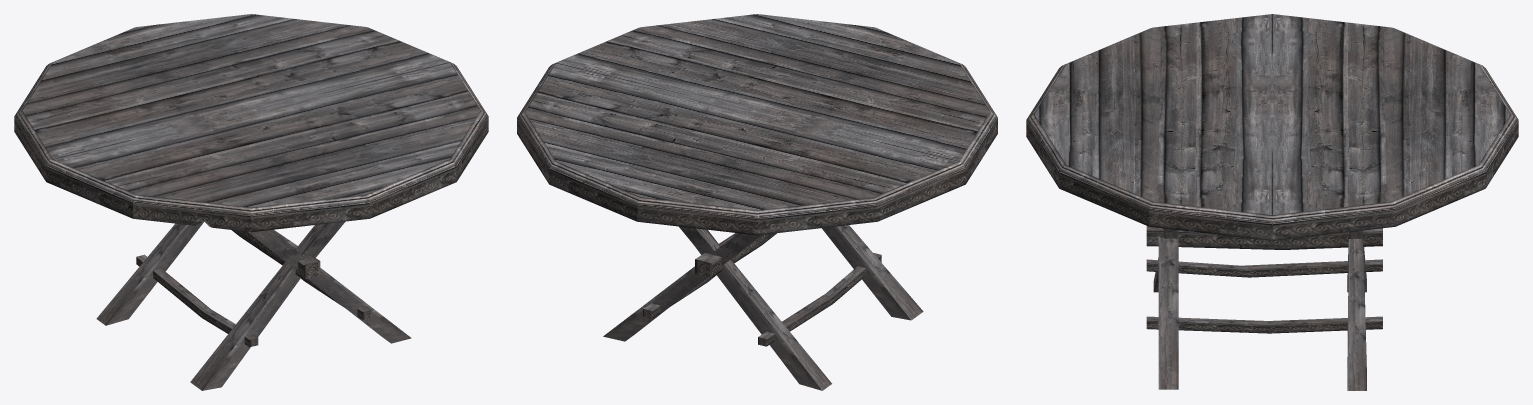
File: tavern_table.dae
3 views of the same model, side by side, from view 1: azimuth 30°, elevation 25°; view 2: azimuth 150°, elevation 25°; view 3: azimuth 270°, elevation 25° (orthographic). The views are drawn at different scales.
Visible parts, largest first — view 1: Default_Layer; view 2: Default_Layer; view 3: Default_Layer.
Part boxes in pixels (x1,y1,x2,y2): Default_Layer: [14, 14, 488, 390]; Default_Layer: [517, 14, 997, 390]; Default_Layer: [1026, 14, 1518, 390].
Size of the model in its own units: 7.57 by 3.78 by 7.57.
